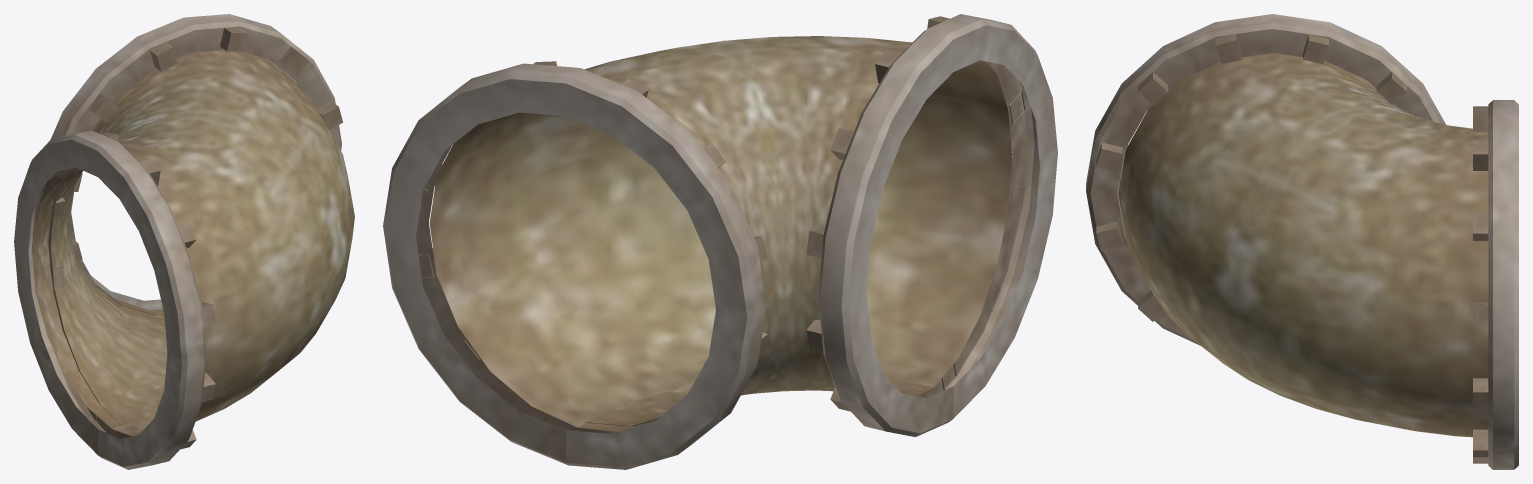
Rendered from pipe-corner-up-left.glb.
3 views of the same model, side by side, from view 1: azimuth 30°, elevation 25°; view 2: azimuth 150°, elevation 25°; view 3: azimuth 270°, elevation 25° (orthographic). The views are drawn at different scales.
Parts seen in each view (by area): view 1: body; view 2: body; view 3: body.
Boxes of the visible parts, box(x1,y1,x2,y2) form: body: box(14, 14, 354, 469); body: box(383, 14, 1057, 469); body: box(1086, 14, 1518, 469).
Bounding box in the file's own units: 0.878 × 0.756 × 0.878.
Materials: 1 (1 with a texture image).
